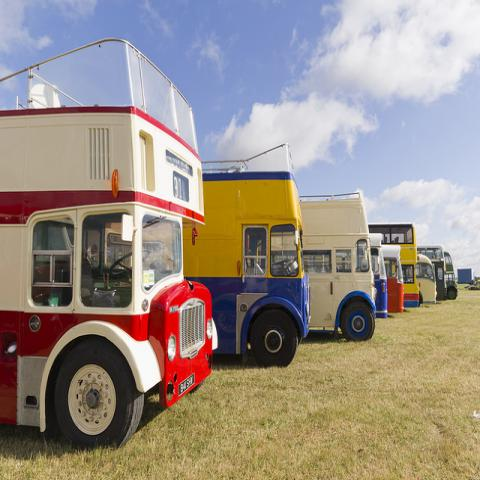bus: (0, 39, 217, 450), (184, 144, 312, 370), (269, 191, 376, 344), (368, 221, 421, 309), (369, 233, 388, 319), (418, 245, 447, 301), (386, 244, 405, 314), (414, 253, 437, 304), (444, 252, 458, 300)
